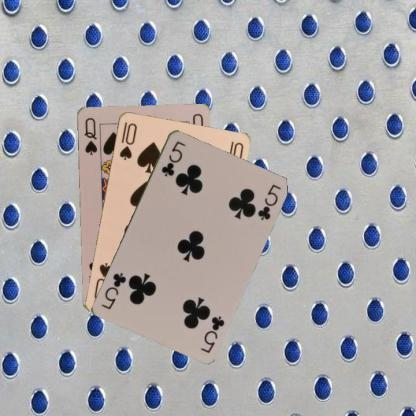10s: (116, 120, 138, 161)
5c: (198, 312, 226, 354), (158, 138, 187, 177)
Qs: (82, 114, 99, 156)
